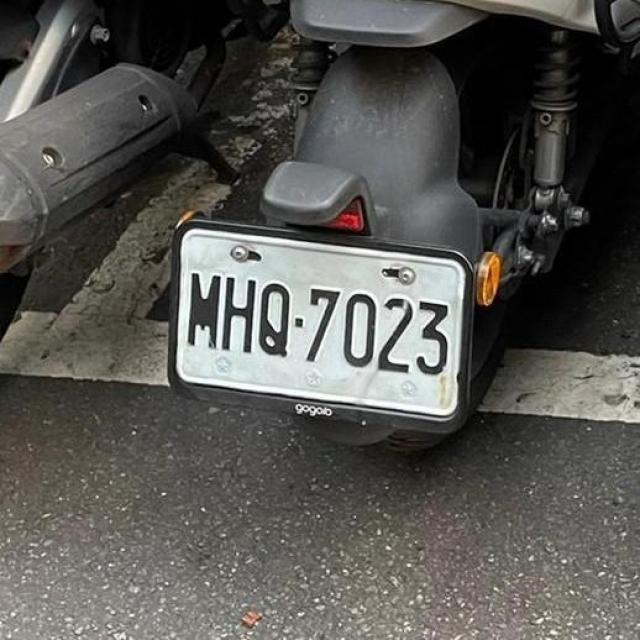W: (161, 221, 478, 426)
